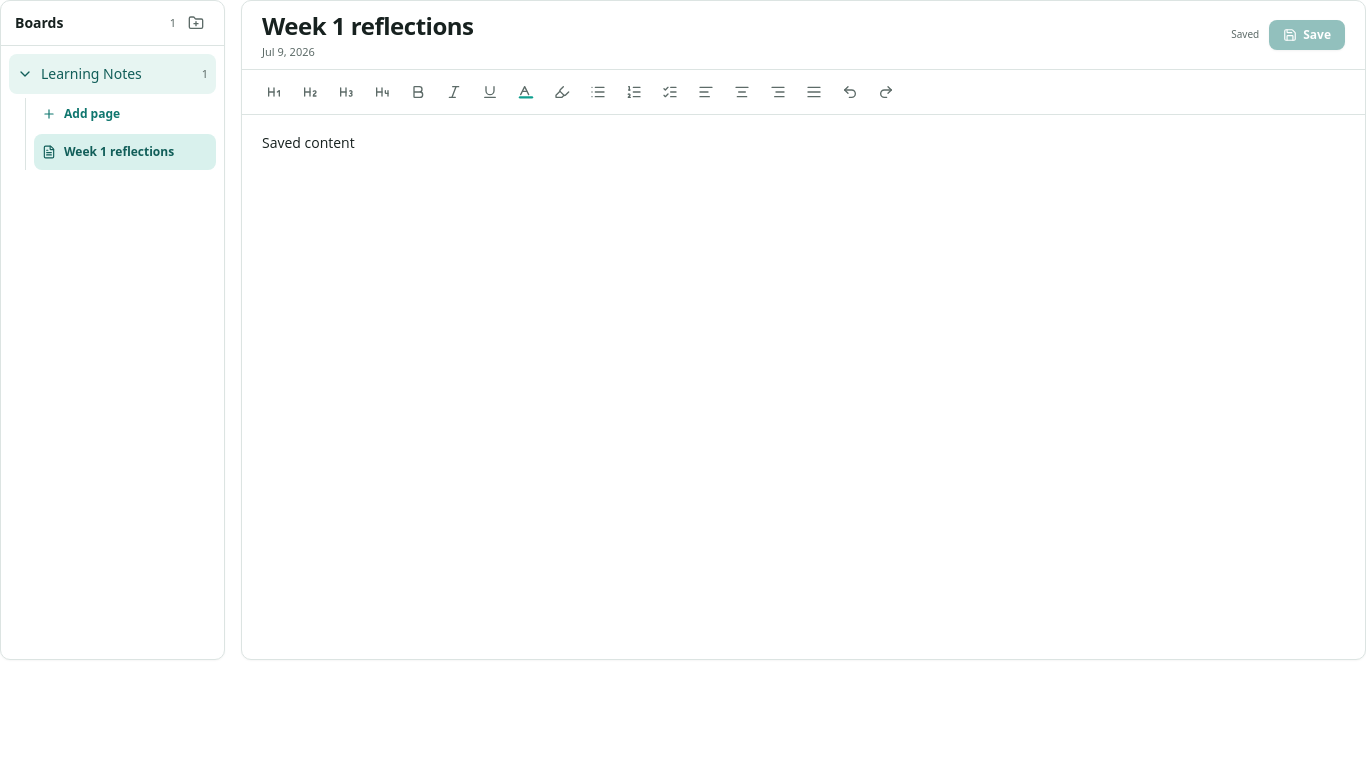
NotesPage › saves the current draft on blur
Expected: the text "Jul 9, 2026" is shown, [262, 44, 315, 59]
Clear the field named "Note title" at point(747, 26), box [262, 9, 1231, 42]
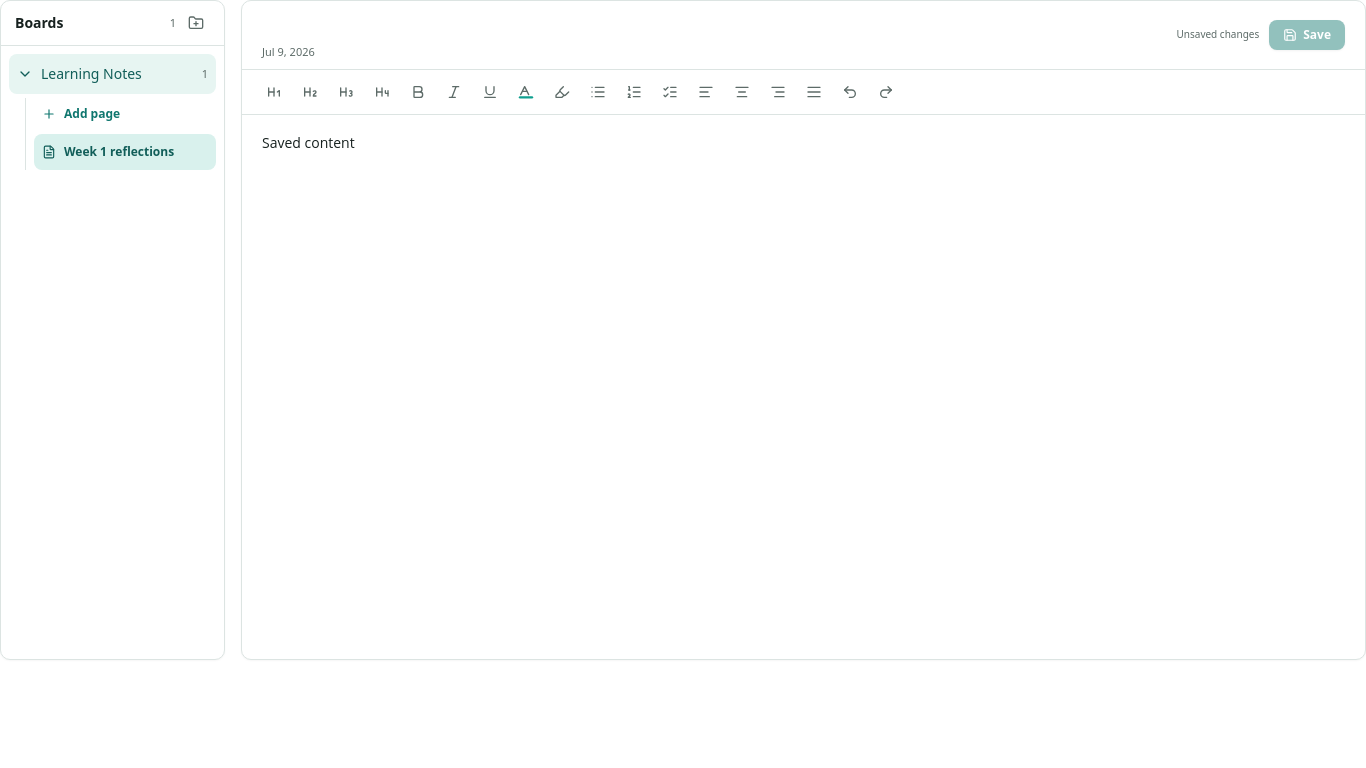
Type "Updated reflections" into the field named "Note title" at point(719, 26), box [262, 9, 1176, 42]
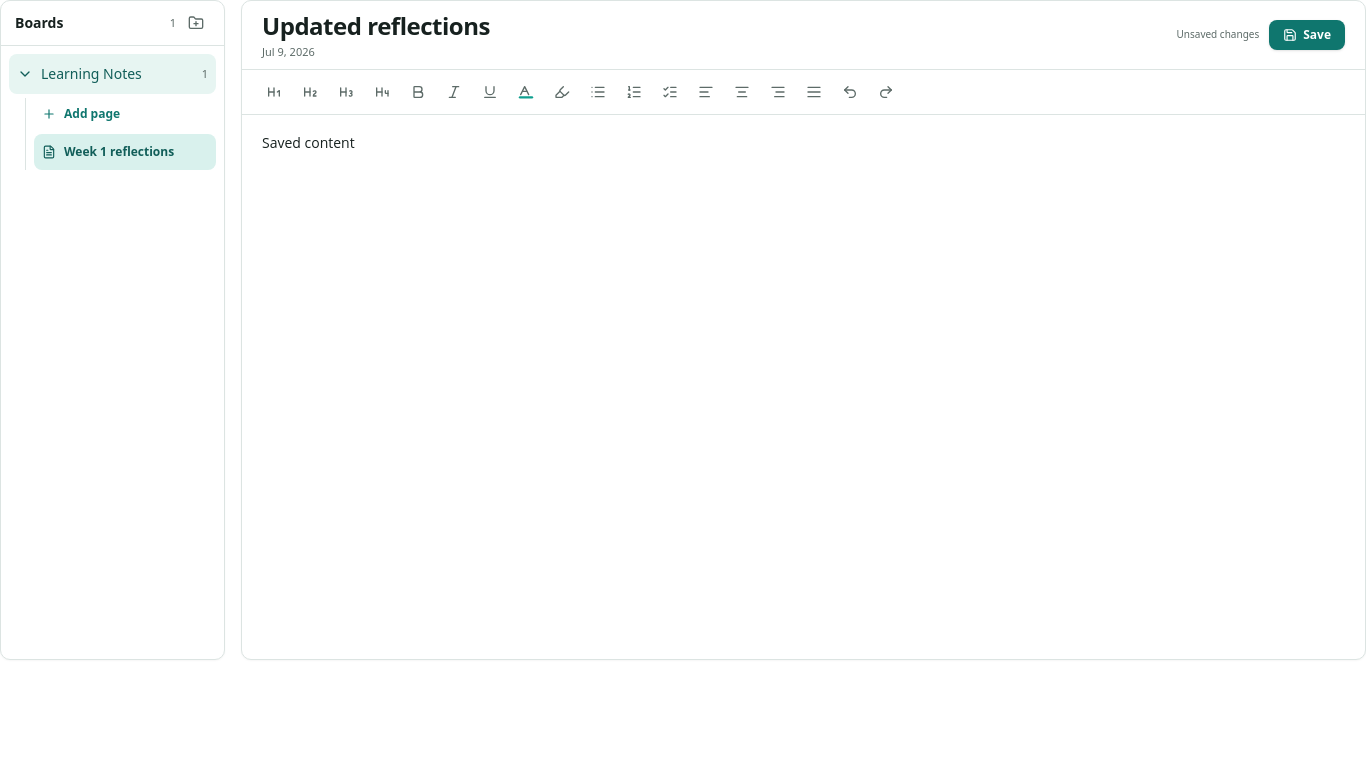
Now the text with test id "note-save-status" reads "Unsaved changes", box [1176, 27, 1259, 41]
Press Tab
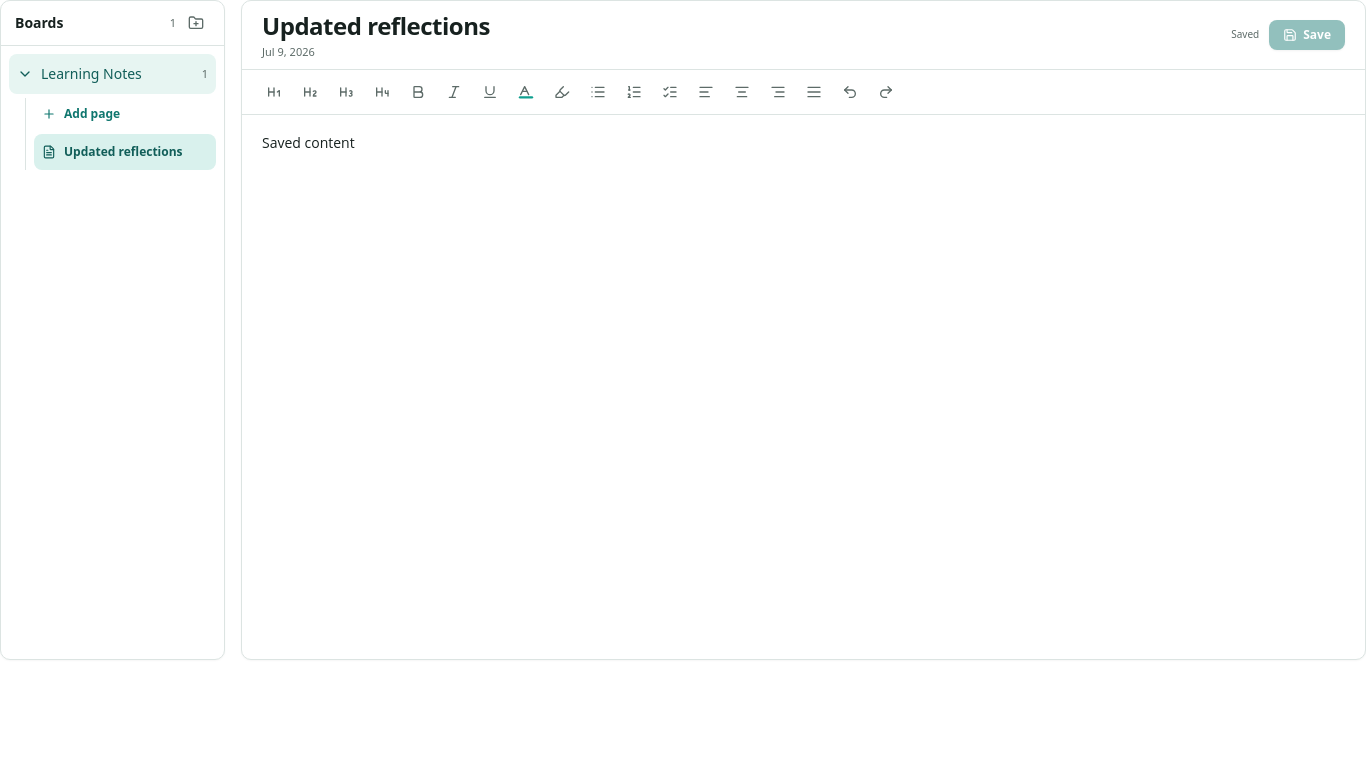
Now the text with test id "note-save-status" reads "Saved", box [1231, 27, 1259, 41]
